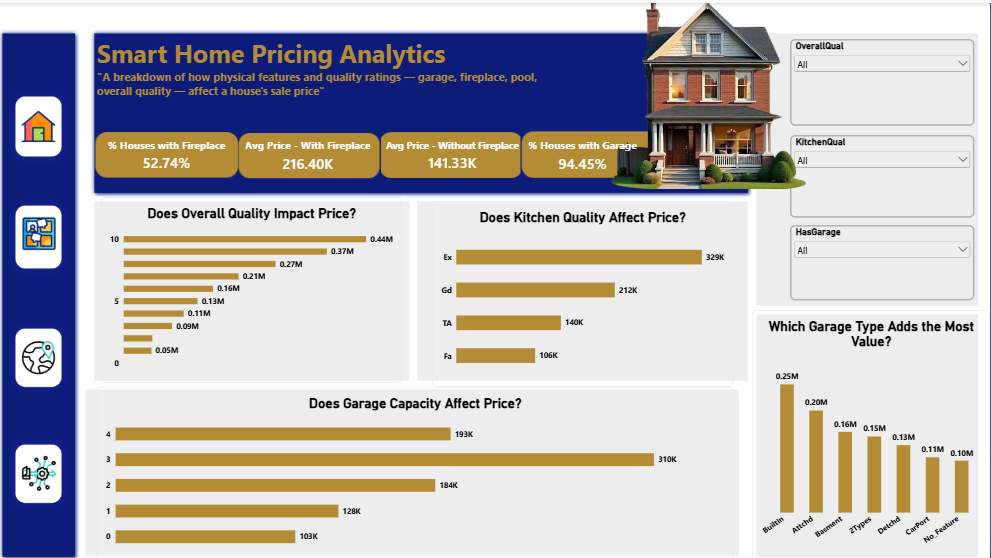

This screenshot's page, from the dashboard's own definition file:
{"tool":"powerbi","page":{"name":"Page 3","canvas":[1920,1080],"ordinal":3},"visuals":[{"type":"shape","box":[178,50,1282,326],"z":0},{"type":"slicer","fields":{"Values":["Dim_Quality.OverallQual"]},"box":[1533.6,69.7,357.4,167.6],"z":0,"group":"g4"},{"type":"image","box":[33,179.6,90.7,117.7],"z":0,"group":"g2"},{"type":"slicer","fields":{"Values":["Dim_Quality.KitchenQual"]},"box":[1532.9,255.8,357.4,159.8],"z":1000,"group":"g4"},{"type":"shape","box":[178,376,626,364],"z":1000},{"type":"image","box":[33.2,390.8,90.7,124.2],"z":1000,"group":"g2"},{"type":"shape","box":[804,376,656,364],"z":2000},{"type":"slicer","fields":{"Values":["Dim_Garage.HasGarage"]},"box":[1533.6,429.1,357.4,145.7],"z":2000,"group":"g4"},{"type":"image","box":[33.2,628,90.7,114.8],"z":2000,"group":"g2"},{"type":"image","box":[33,853.4,90.7,114.8],"z":2000,"group":"g3"},{"type":"shape","box":[161,739.1,1282,340],"z":3000},{"type":"shape","box":[1460,50,446,544],"z":4000},{"type":"shape","box":[1460,594,446,486],"z":5000},{"type":"textbox","box":[192,64,866,184],"z":6000},{"type":"shape","box":[0,50,158,1030],"z":7000},{"type":"group","id":"g1","title":"Group 3","box":[169.3,215.2,1145.2,159],"z":8000},{"type":"image","box":[169.3,217.3,316.4,156.4],"z":8000,"group":"g1"},{"type":"image","box":[451.3,218.7,301.9,154.8],"z":9000,"group":"g1"},{"type":"cardVisual","fields":{"Data":["Fact_Properties.% Houses with Fireplace"]},"box":[196.1,231.2,262.2,128],"z":9000},{"type":"image","box":[742.6,216.9,270.5,156.9],"z":10000,"group":"g1"},{"type":"cardVisual","fields":{"Data":["Fact_Properties.Avg Price - With Fireplace"]},"box":[458.7,230.3,282.6,129.7],"z":10000},{"type":"image","box":[996.6,215.2,317.9,159],"z":11000,"group":"g1"},{"type":"cardVisual","fields":{"Data":["Fact_Properties.Avg Price - Without Fireplace"]},"box":[724.6,216.8,311.7,159],"z":11000},{"type":"group","id":"g2","title":"Group 1","box":[33,179.6,90.8,563.2],"z":12000,"group":"g3"},{"type":"group","id":"g3","title":"Group 2","box":[33,179.6,90.8,788.6],"z":13000},{"type":"clusteredBarChart","title":"Does Overall Quality Impact Price?","fields":{"Category":["Dim_Quality.OverallQual"],"Y":["Fact_Properties.Average Sale Price"]},"box":[200.3,375.7,582.2,359.2],"z":14000},{"type":"clusteredBarChart","title":"Does Kitchen Quality Affect Price?","fields":{"Y":["Fact_Properties.Average Sale Price"],"Category":["Dim_Quality.KitchenQual"]},"box":[840.3,384,582.2,359.2],"z":15000},{"type":"clusteredBarChart","title":"Does Garage Capacity Affect Price?","fields":{"Category":["Dim_Garage.GarageCars"],"Y":["Fact_Properties.Average Sale Price"]},"box":[191.6,743.2,1231,336.8],"z":16000},{"type":"clusteredColumnChart","title":"Which Garage Type Adds the Most Value?","fields":{"Category":["Dim_Garage.GarageType"],"Y":["Fact_Properties.Average Sale Price"]},"box":[1459.6,594.6,460.4,485.2],"z":17000},{"type":"group","id":"g4","title":"Group 3","box":[1532.9,69.7,358.1,505.2],"z":18000},{"type":"image","box":[1116.9,0,508,360],"z":19000},{"type":"cardVisual","fields":{"Data":["Fact_Properties.% Houses with Garage"]},"box":[971.6,224.5,320,142.5],"z":19500}]}

Visuals, with their boxes in screenshot pixels (x1, y1, x2, y2), scaled from the page's 1920x1080 canvas onto the 991x558 screenshot:
shape: Rect(92, 26, 754, 194)
slicer - Dim_Quality.OverallQual: Rect(792, 36, 976, 123)
image: Rect(17, 93, 64, 154)
slicer - Dim_Quality.KitchenQual: Rect(791, 132, 976, 215)
shape: Rect(92, 194, 415, 382)
image: Rect(17, 202, 64, 266)
shape: Rect(415, 194, 754, 382)
slicer - Dim_Garage.HasGarage: Rect(792, 222, 976, 297)
image: Rect(17, 324, 64, 384)
image: Rect(17, 441, 64, 500)
shape: Rect(83, 382, 745, 557)
shape: Rect(754, 26, 984, 307)
shape: Rect(754, 307, 984, 557)
textbox: Rect(99, 33, 546, 128)
shape: Rect(0, 26, 82, 557)
"Group 3" group: Rect(87, 111, 678, 193)
image: Rect(87, 112, 251, 193)
image: Rect(233, 113, 389, 193)
cardVisual - Fact_Properties.% Houses with Fireplace: Rect(101, 119, 237, 186)
image: Rect(383, 112, 523, 193)
cardVisual - Fact_Properties.Avg Price - With Fireplace: Rect(237, 119, 383, 186)
image: Rect(514, 111, 678, 193)
cardVisual - Fact_Properties.Avg Price - Without Fireplace: Rect(374, 112, 535, 194)
"Group 1" group: Rect(17, 93, 64, 384)
"Group 2" group: Rect(17, 93, 64, 500)
"Does Overall Quality Impact Price?" clusteredBarChart: Rect(103, 194, 404, 380)
"Does Kitchen Quality Affect Price?" clusteredBarChart: Rect(434, 198, 734, 384)
"Does Garage Capacity Affect Price?" clusteredBarChart: Rect(99, 384, 734, 557)
"Which Garage Type Adds the Most Value?" clusteredColumnChart: Rect(753, 307, 990, 557)
"Group 3" group: Rect(791, 36, 976, 297)
image: Rect(576, 0, 839, 186)
cardVisual - Fact_Properties.% Houses with Garage: Rect(501, 116, 667, 190)
